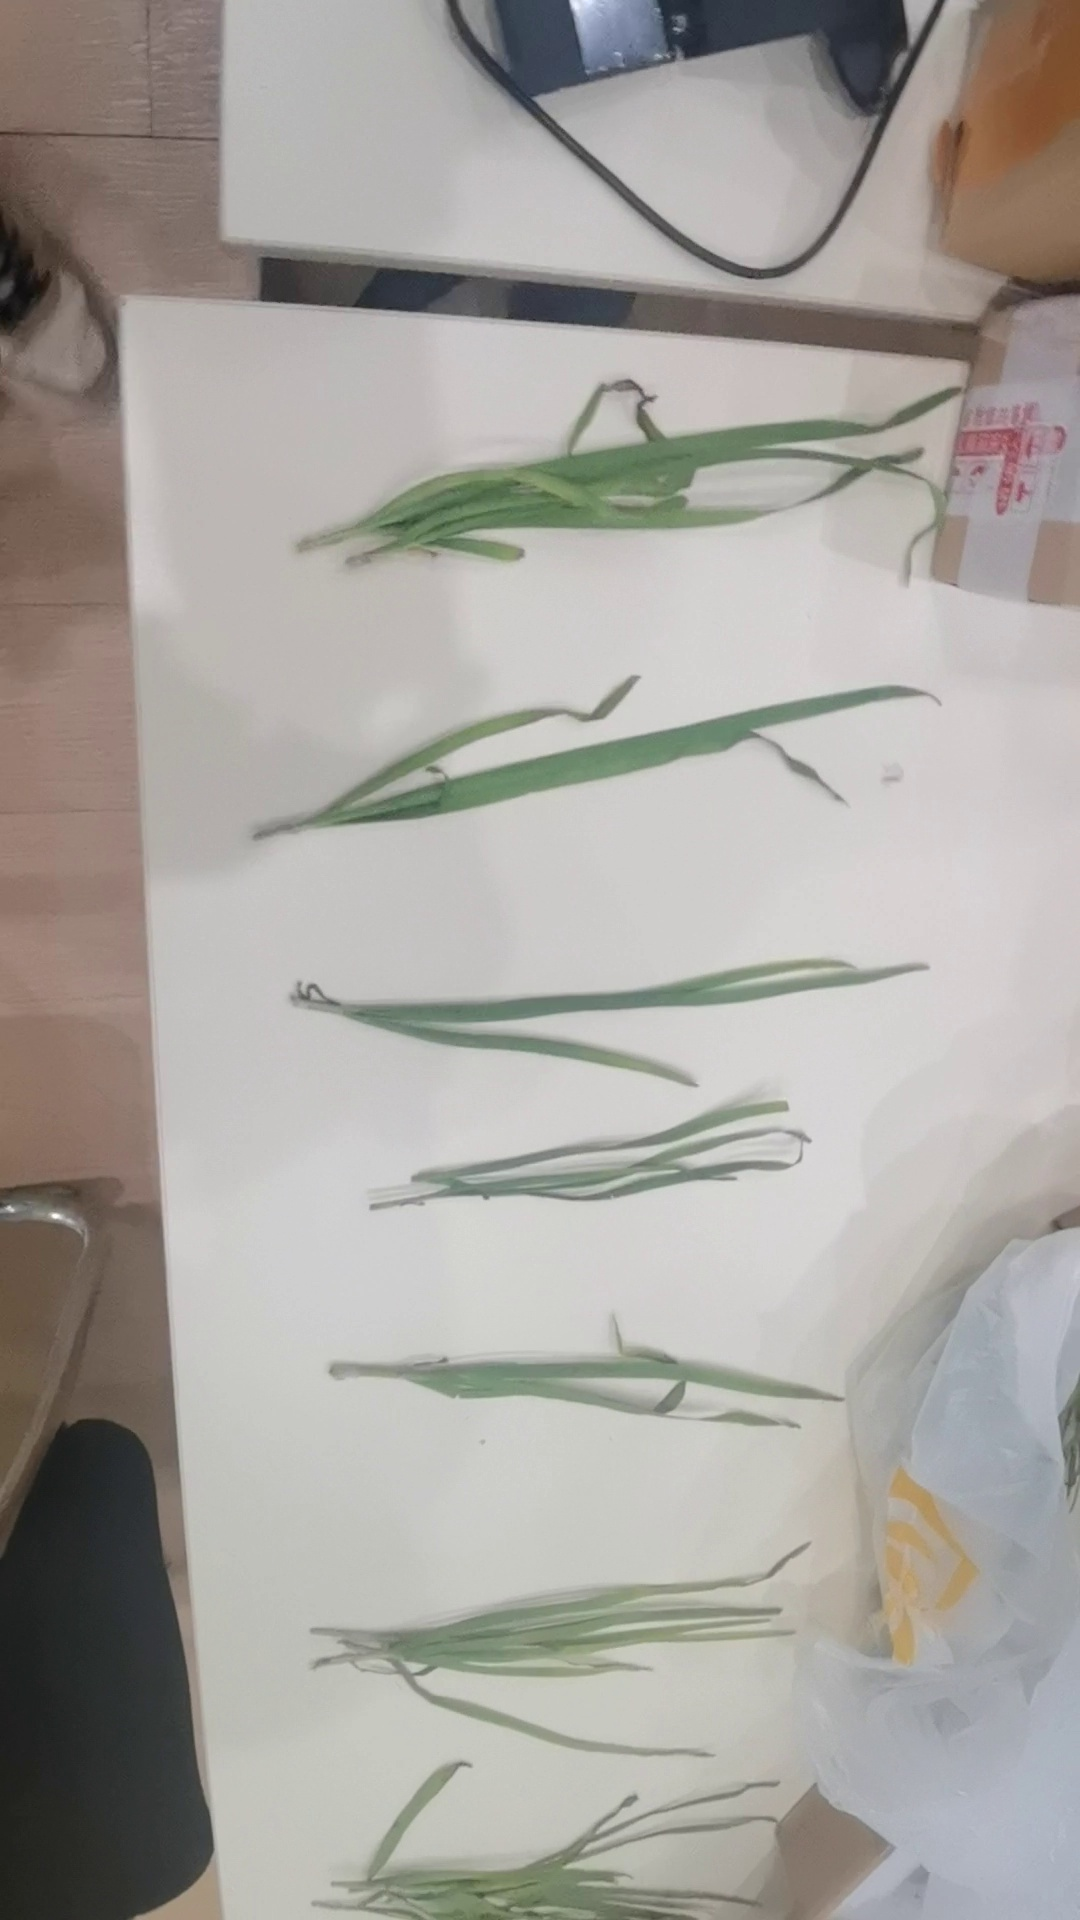chives: (277, 347, 965, 597), (225, 641, 978, 868), (273, 1545, 913, 1758), (243, 947, 985, 1091), (285, 1772, 910, 1920), (343, 1095, 880, 1229), (316, 1333, 881, 1458)
